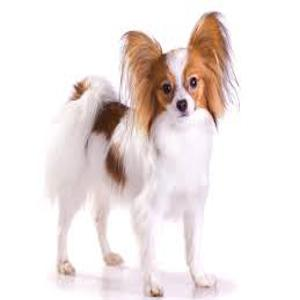yell: (43, 12, 238, 296)
